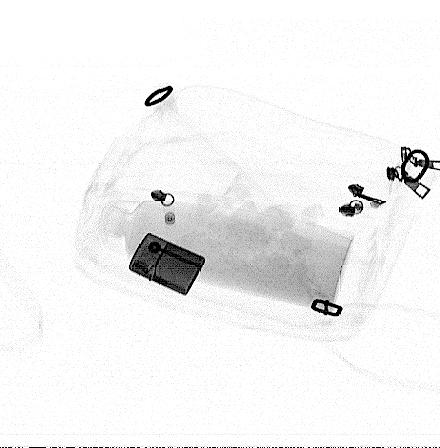Lighter: (128, 232, 207, 295)
